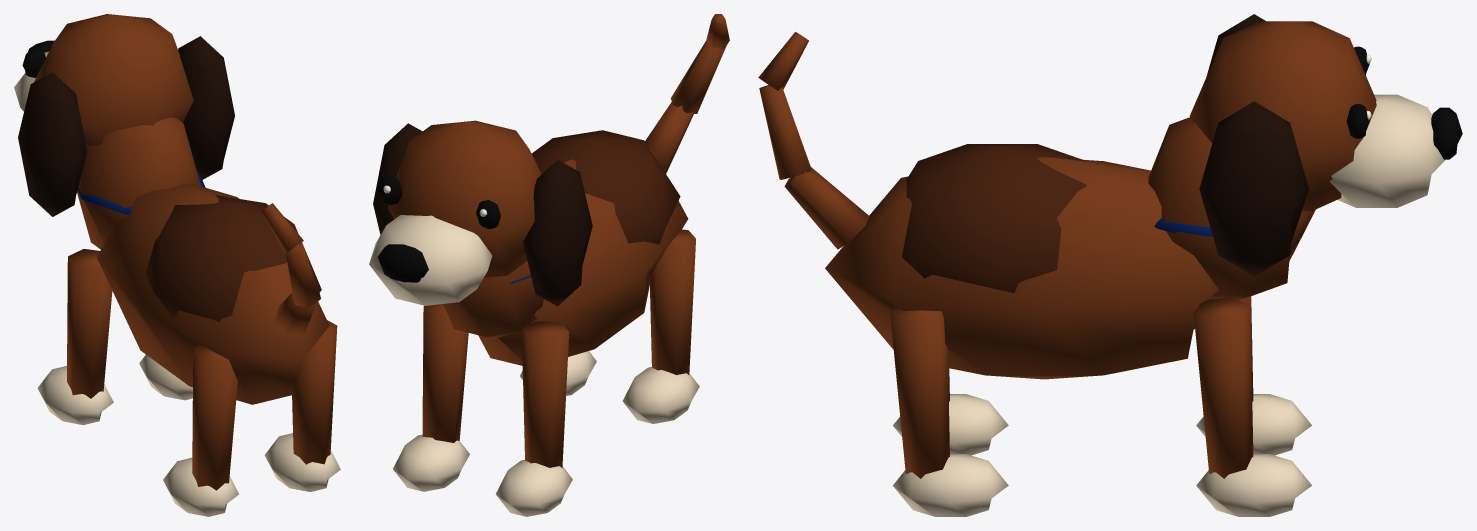
Rendered from PV_PetDog.fbx.
3 views of the same model, side by side, from view 1: azimuth 30°, elevation 25°; view 2: azimuth 150°, elevation 25°; view 3: azimuth 270°, elevation 25° (orthographic). The views are drawn at different scales.
Parts seen in each view (by area): view 1: PV_PetDog_LOD0; view 2: PV_PetDog_LOD0; view 3: PV_PetDog_LOD0.
Part boxes in pixels (<box>): PV_PetDog_LOD0: <box>14,14,340,516</box>; PV_PetDog_LOD0: <box>369,14,729,516</box>; PV_PetDog_LOD0: <box>758,14,1462,516</box>.
Size of what is drawn, in the model's own units: 0.434 by 0.788 by 1.09.
